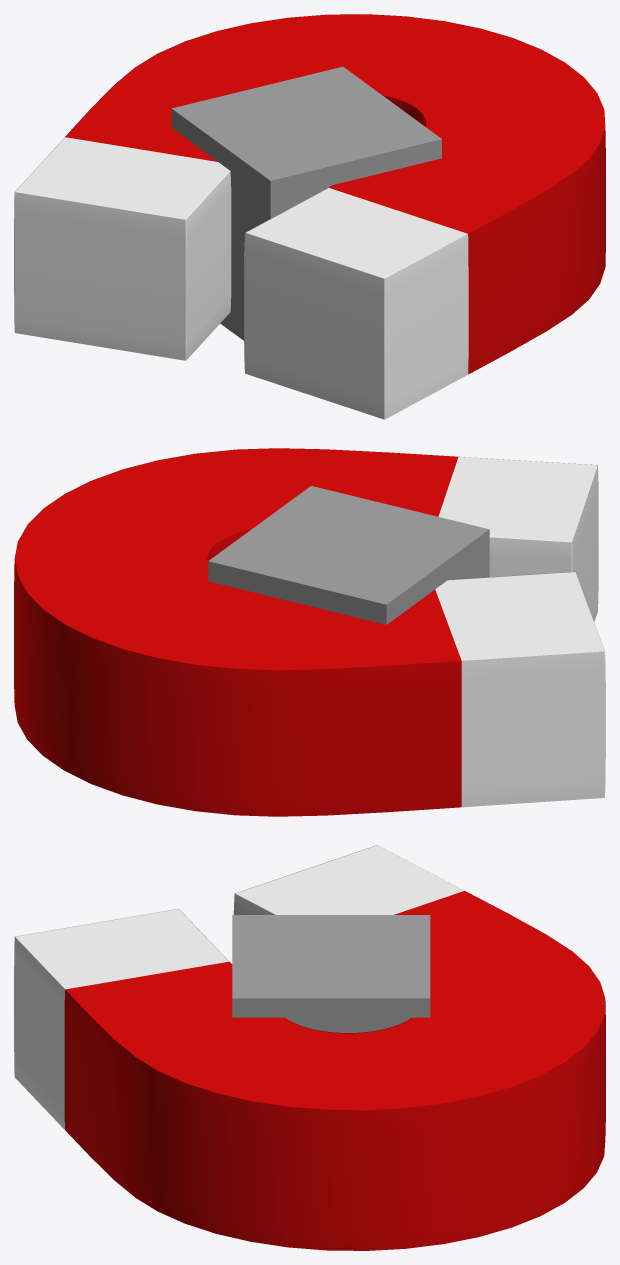
Rendered from complex.obj.
3 renders of one model, top to bottom at view 1: azimuth 30°, elevation 25°; view 2: azimuth 150°, elevation 25°; view 3: azimuth 270°, elevation 25°, orthographic. The views are drawn at different scales.
Visible parts, largest first — view 1: polySurface1, Cube; view 2: polySurface1, Cube; view 3: polySurface1, Cube.
Boxes of the visible parts, box(x1,y1,x2,y2) form: polySurface1: box(14, 14, 605, 419); Cube: box(171, 66, 441, 340); polySurface1: box(14, 448, 605, 816); Cube: box(208, 486, 489, 624); polySurface1: box(14, 845, 605, 1250); Cube: box(232, 915, 430, 1032).
Bounding box in the file's own units: 6.37 × 2 × 5.99.
